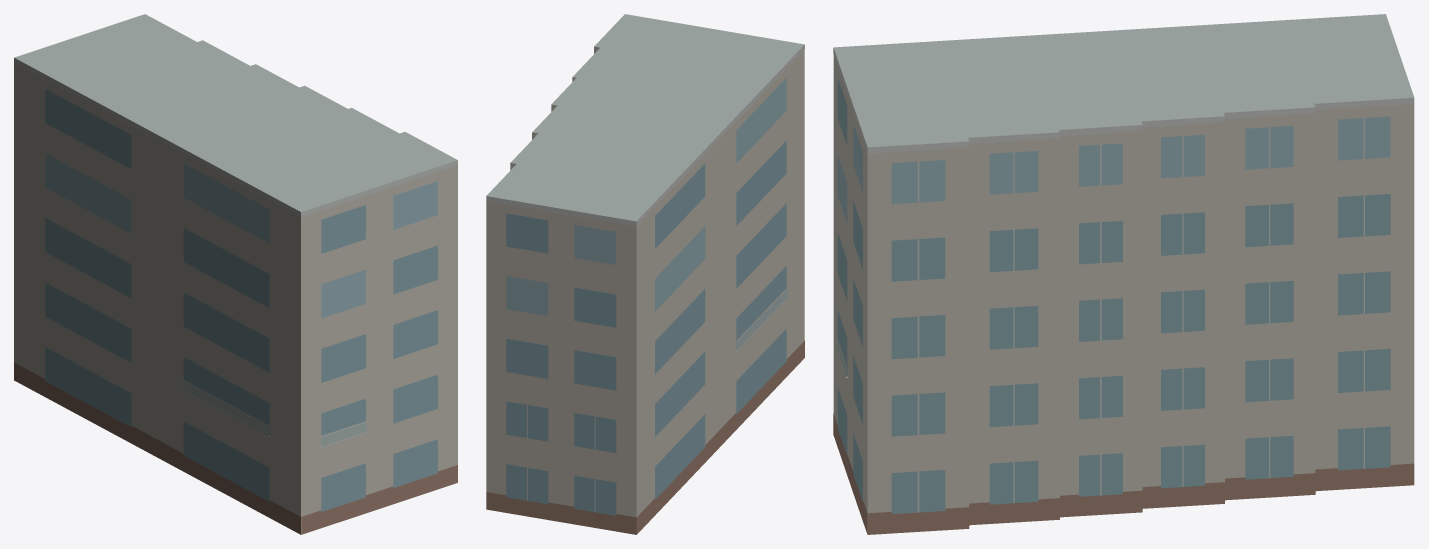
Rendered from survey-upis-32966085.glb.
The picture shows the model from 3 angles, left to right: view 1: azimuth 30°, elevation 25°; view 2: azimuth 150°, elevation 25°; view 3: azimuth 270°, elevation 25°; orthographic projection. The views are drawn at different scales.
Parts seen in each view (by area): view 1: survey-upis-32966085.tmp; view 2: survey-upis-32966085.tmp; view 3: survey-upis-32966085.tmp.
Part boxes in pixels (box(x1,y1,x2,y2)): survey-upis-32966085.tmp: box(14, 14, 457, 534); survey-upis-32966085.tmp: box(486, 14, 804, 534); survey-upis-32966085.tmp: box(833, 14, 1414, 534).
Bounding box in the file's own units: 11.28 × 15.25 × 20.74.
